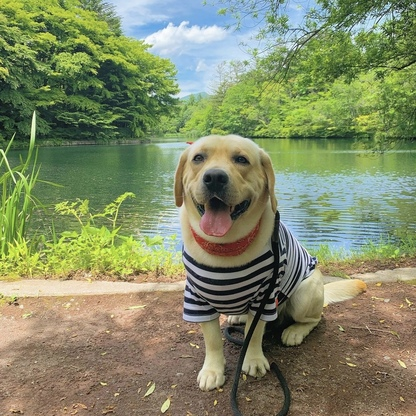labrado: (170, 132, 369, 391)
